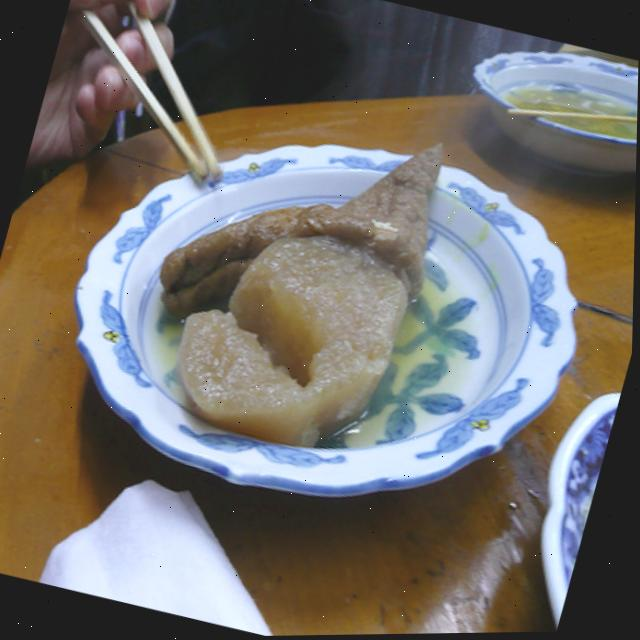汤锅炖物: (120, 68, 471, 474)
